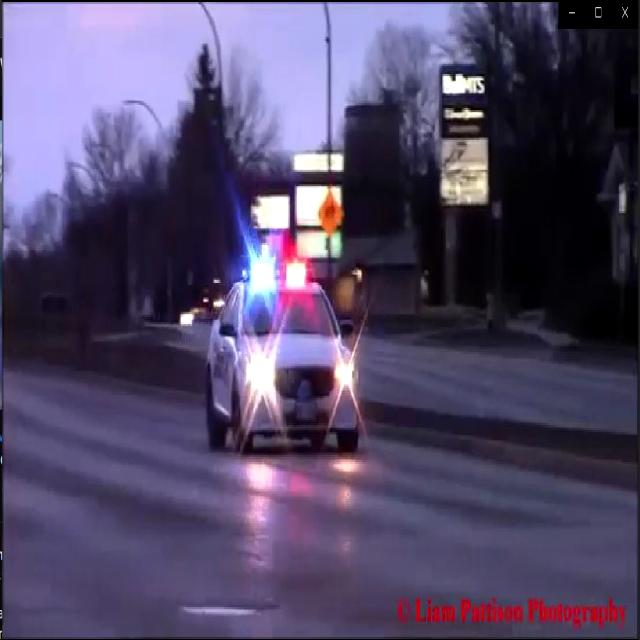emergency: (204, 241, 367, 453)
